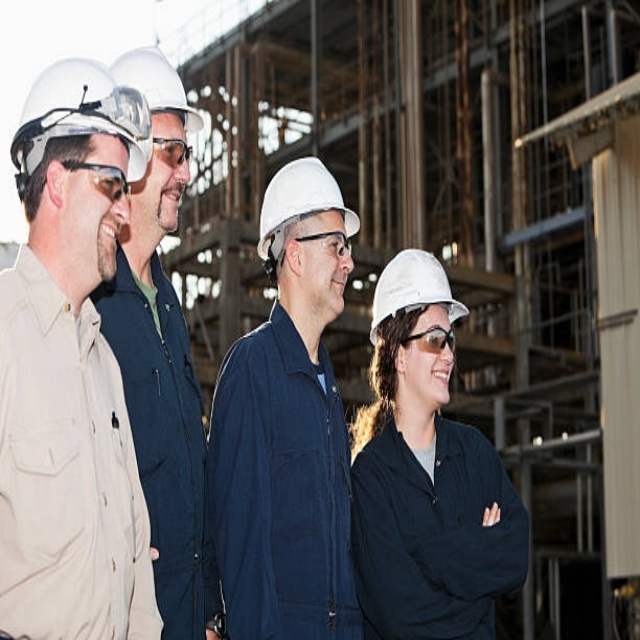Gafas: (63, 160, 129, 202), (295, 227, 350, 259), (399, 326, 456, 350), (154, 133, 195, 165)
Sin_mascara: (154, 182, 185, 227), (92, 220, 123, 265), (322, 271, 350, 303), (426, 365, 452, 392)
